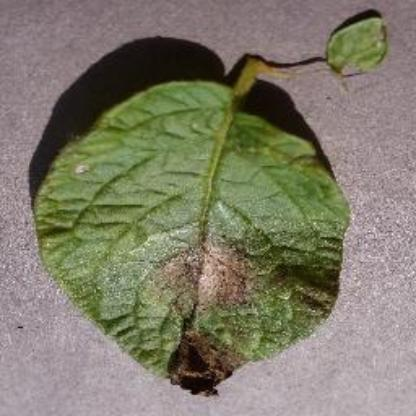Late-Blight: (25, 22, 353, 411)
